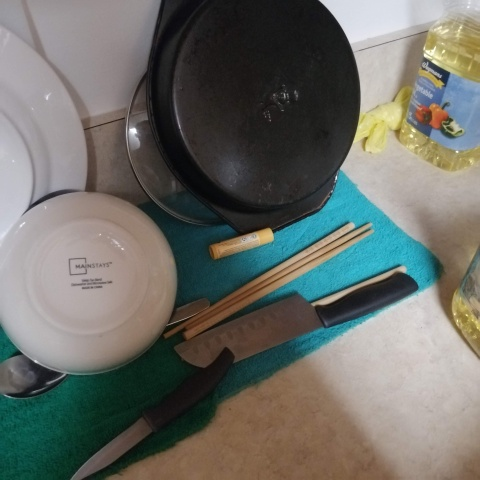chapstick: (207, 224, 275, 263)
